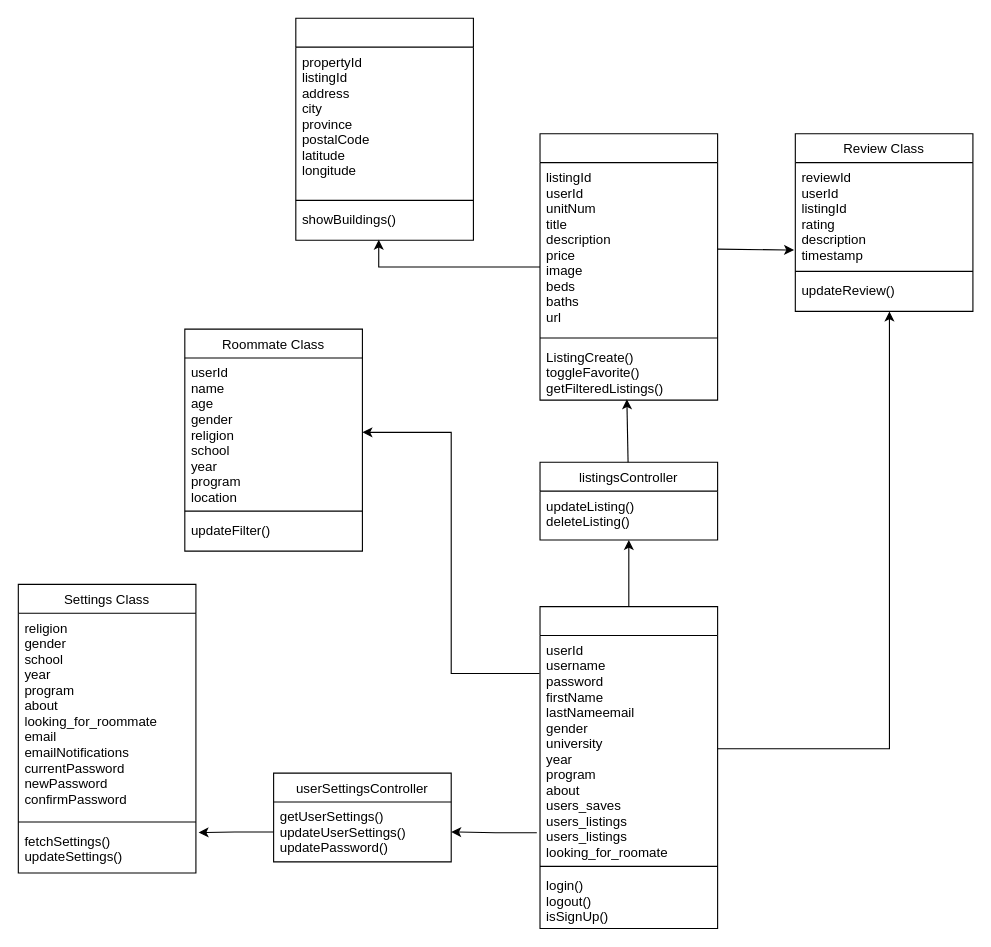
Some shapes in this 991 by 947 pixel diagram are drawn without their labels. The shapes that lost their labels are listed below. From the top down, each one's box as (x1, y1, x2, y2) in pixels, then its label:
(295, 17, 473, 240): Property Class
(539, 133, 718, 400): Listing Class
(539, 606, 718, 929): User Class
